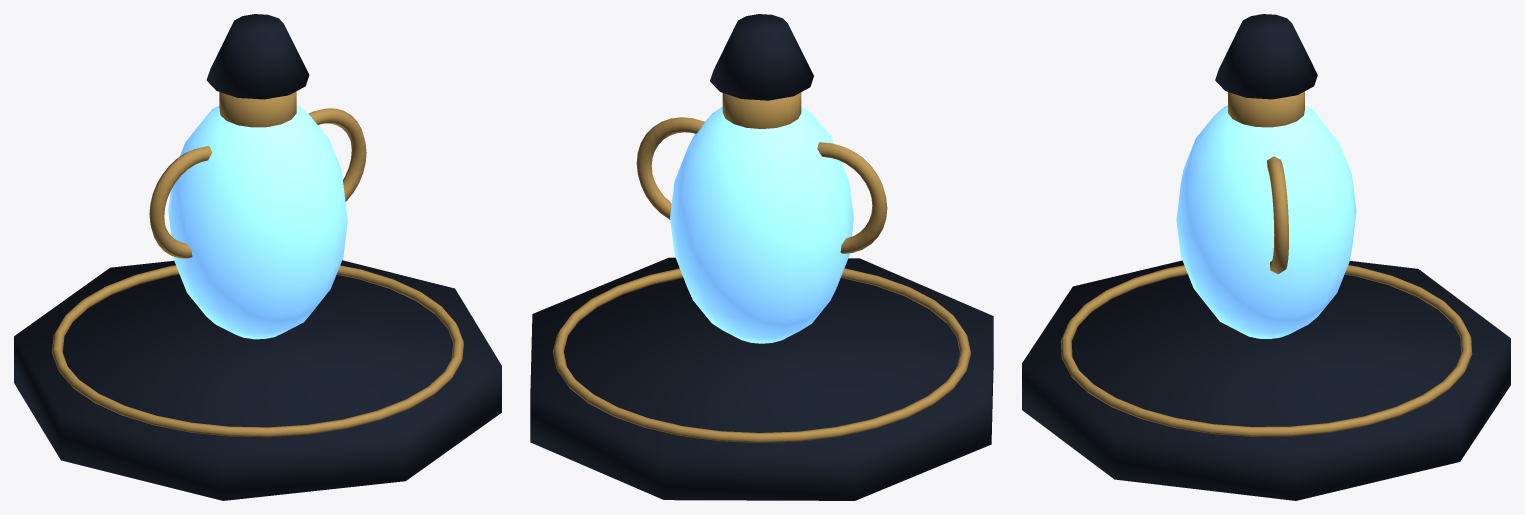
3 views of the same model, side by side, from view 1: azimuth 30°, elevation 25°; view 2: azimuth 150°, elevation 25°; view 3: azimuth 270°, elevation 25° (orthographic).
Visible parts, largest first — view 1: Hexagonal plinth, Relic vessel, Inlaid rim, Stopper, Relic handle, Neck, Relic handle.001; view 2: Hexagonal plinth, Relic vessel, Inlaid rim, Stopper, Relic handle, Neck, Relic handle.001; view 3: Hexagonal plinth, Relic vessel, Inlaid rim, Stopper, Neck, Relic handle.001.
Part boxes in pixels (bbox=[...]): Hexagonal plinth: bbox=[14, 260, 501, 500]; Relic vessel: bbox=[168, 105, 347, 339]; Inlaid rim: bbox=[52, 265, 463, 437]; Stopper: bbox=[206, 14, 309, 99]; Relic handle: bbox=[149, 146, 212, 258]; Neck: bbox=[219, 91, 296, 127]; Relic handle.001: bbox=[308, 108, 366, 201]; Hexagonal plinth: bbox=[530, 257, 993, 500]; Relic vessel: bbox=[670, 107, 853, 343]; Inlaid rim: bbox=[553, 268, 970, 442]; Stopper: bbox=[710, 14, 813, 100]; Relic handle: bbox=[817, 142, 887, 253]; Neck: bbox=[722, 92, 801, 128]; Relic handle.001: bbox=[636, 117, 704, 219]; Hexagonal plinth: bbox=[1022, 260, 1510, 500]; Relic vessel: bbox=[1176, 105, 1356, 338]; Inlaid rim: bbox=[1060, 265, 1472, 436]; Stopper: bbox=[1215, 14, 1317, 99]; Neck: bbox=[1228, 91, 1304, 127]; Relic handle.001: bbox=[1267, 156, 1288, 274].
Bounding box in the file's own units: 1.51 × 1.27 × 1.51.
